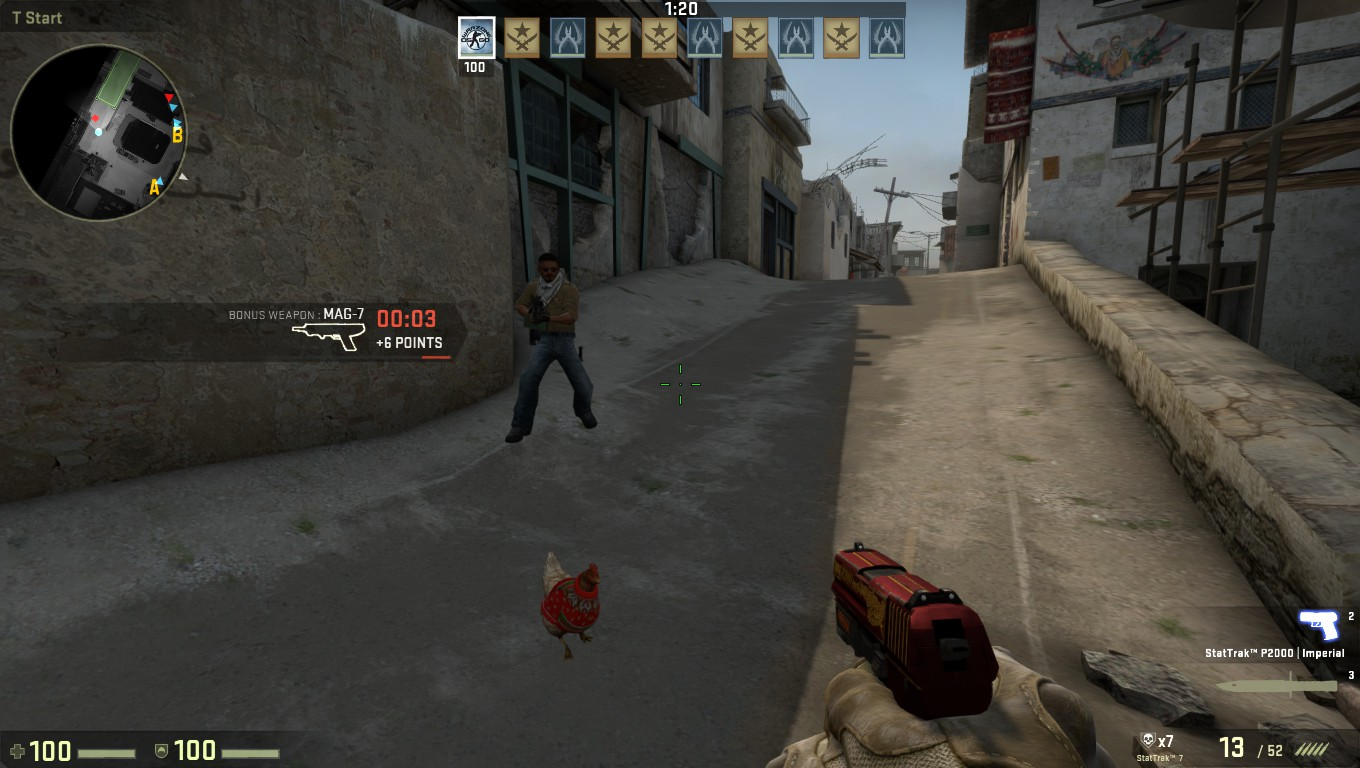t: (512, 253, 590, 438)
th: (534, 251, 562, 285)
